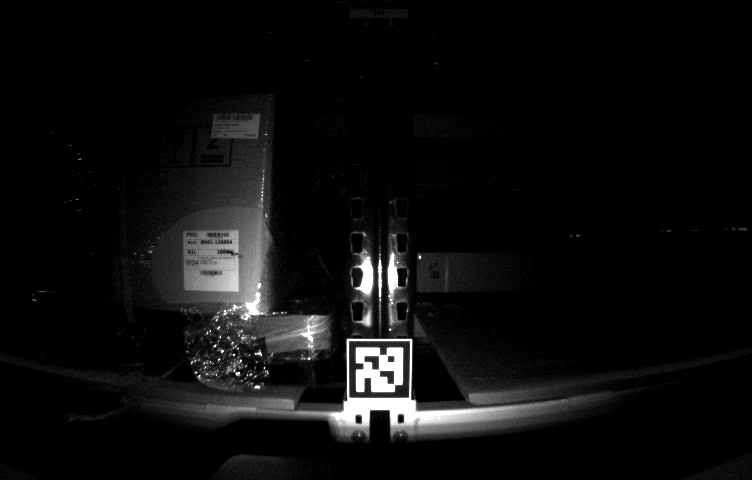True Barcode: (180, 229, 242, 295)
